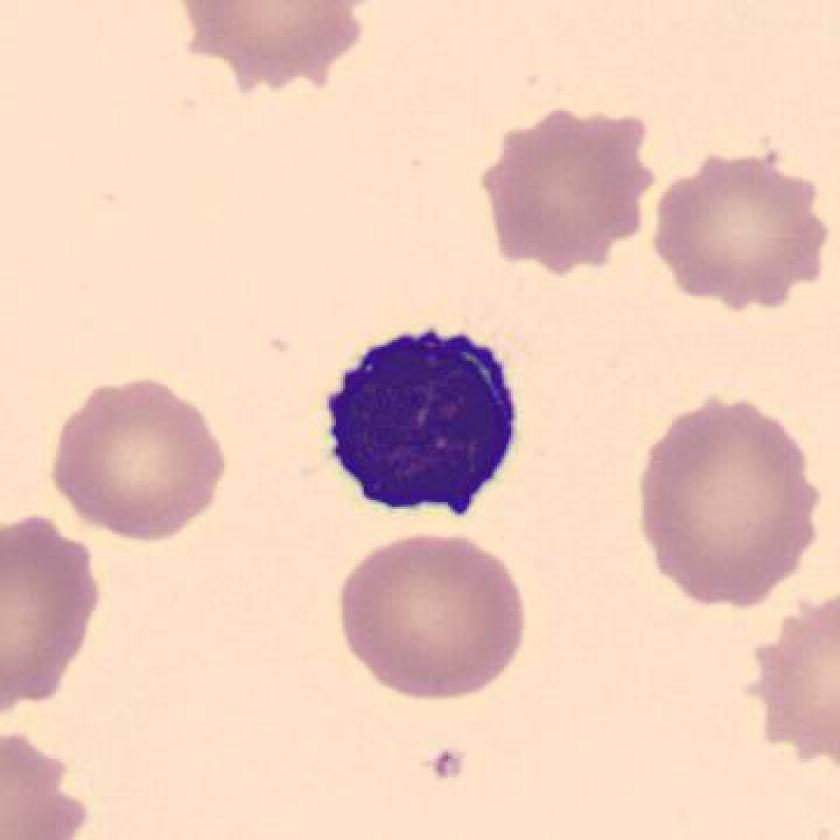lymphocyte: (311, 309, 540, 538)
